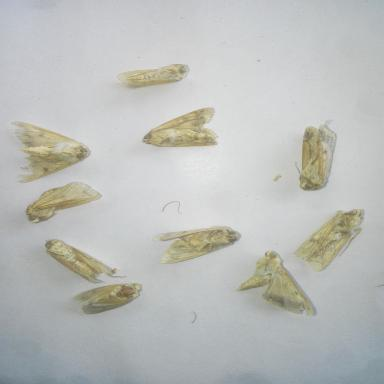abw: (233, 244, 320, 320), (6, 116, 97, 186), (284, 203, 369, 276), (19, 175, 113, 227), (36, 234, 122, 288), (153, 220, 245, 270), (290, 115, 346, 194), (139, 104, 225, 152), (65, 278, 148, 318), (112, 60, 194, 94)
